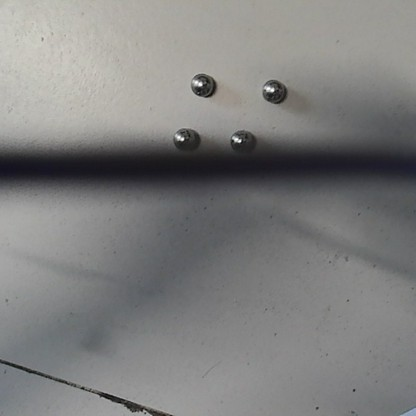ironball: (262, 78, 285, 103), (189, 73, 212, 96), (230, 128, 252, 152), (172, 127, 194, 150)
